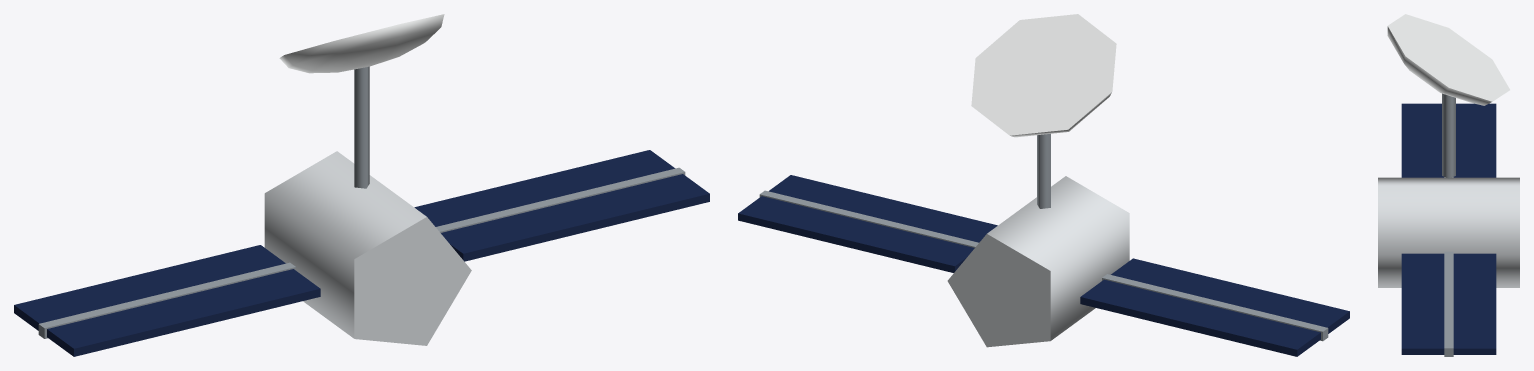
The model's file is space_ship_probe_mk1_lod1.glb.
The picture shows the model from 3 angles, left to right: view 1: azimuth 30°, elevation 25°; view 2: azimuth 150°, elevation 25°; view 3: azimuth 270°, elevation 25°; orthographic projection. The views are drawn at different scales.
Visible parts, largest first — view 1: body, solar_0, solar_1, antenna_0; view 2: body, antenna_0, solar_0, solar_1; view 3: body, solar_1, antenna_0, solar_0.
Part boxes in pixels (box(x1,y1,x2,y2)): body: box(264, 151, 471, 345); solar_0: box(14, 245, 320, 356); solar_1: box(414, 150, 709, 261); antenna_0: box(279, 14, 444, 188); body: box(947, 176, 1129, 347); antenna_0: box(971, 14, 1116, 208); solar_0: box(1080, 258, 1349, 356); solar_1: box(738, 175, 997, 272); body: box(1378, 177, 1519, 287); solar_1: box(1401, 251, 1496, 356); antenna_0: box(1387, 14, 1509, 178); solar_0: box(1401, 103, 1496, 177).
Bounding box in the file's own units: 4.94 × 2.38 × 1.2.
